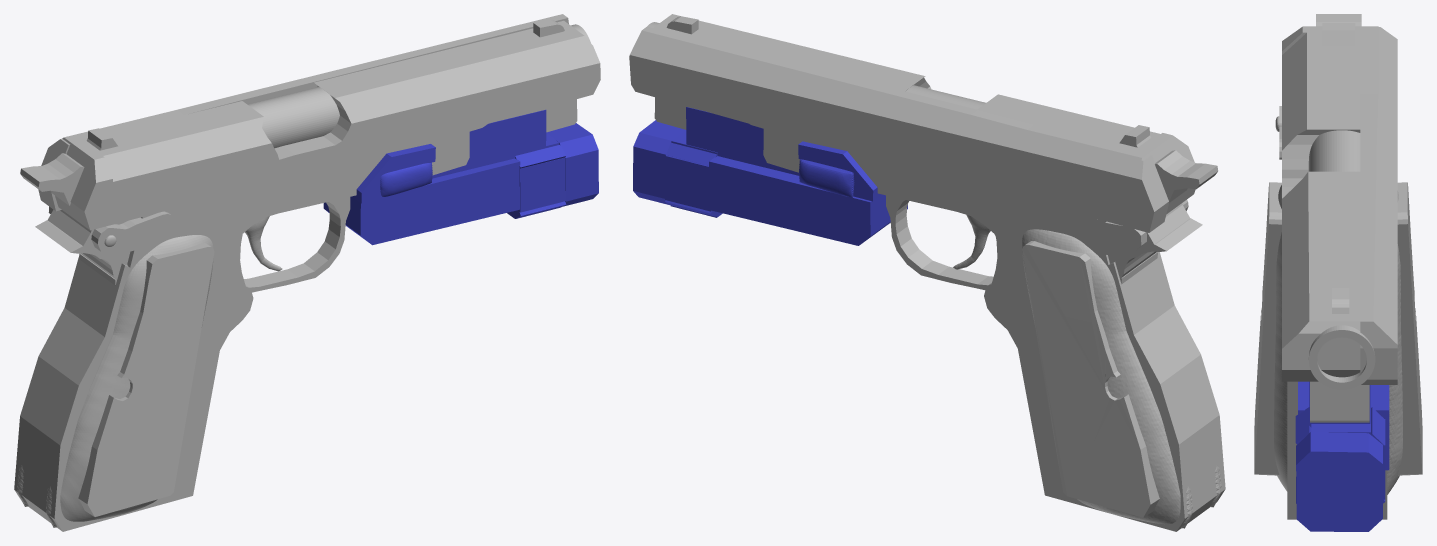
File: browning hi power torch.glb
The picture shows the model from 3 angles, left to right: view 1: azimuth 30°, elevation 25°; view 2: azimuth 150°, elevation 25°; view 3: azimuth 270°, elevation 25°; orthographic projection. The views are drawn at different scales.
Bounding box in the file's own units: 1.72 × 1.1 × 0.3686.
2 materials, 1 textured.
